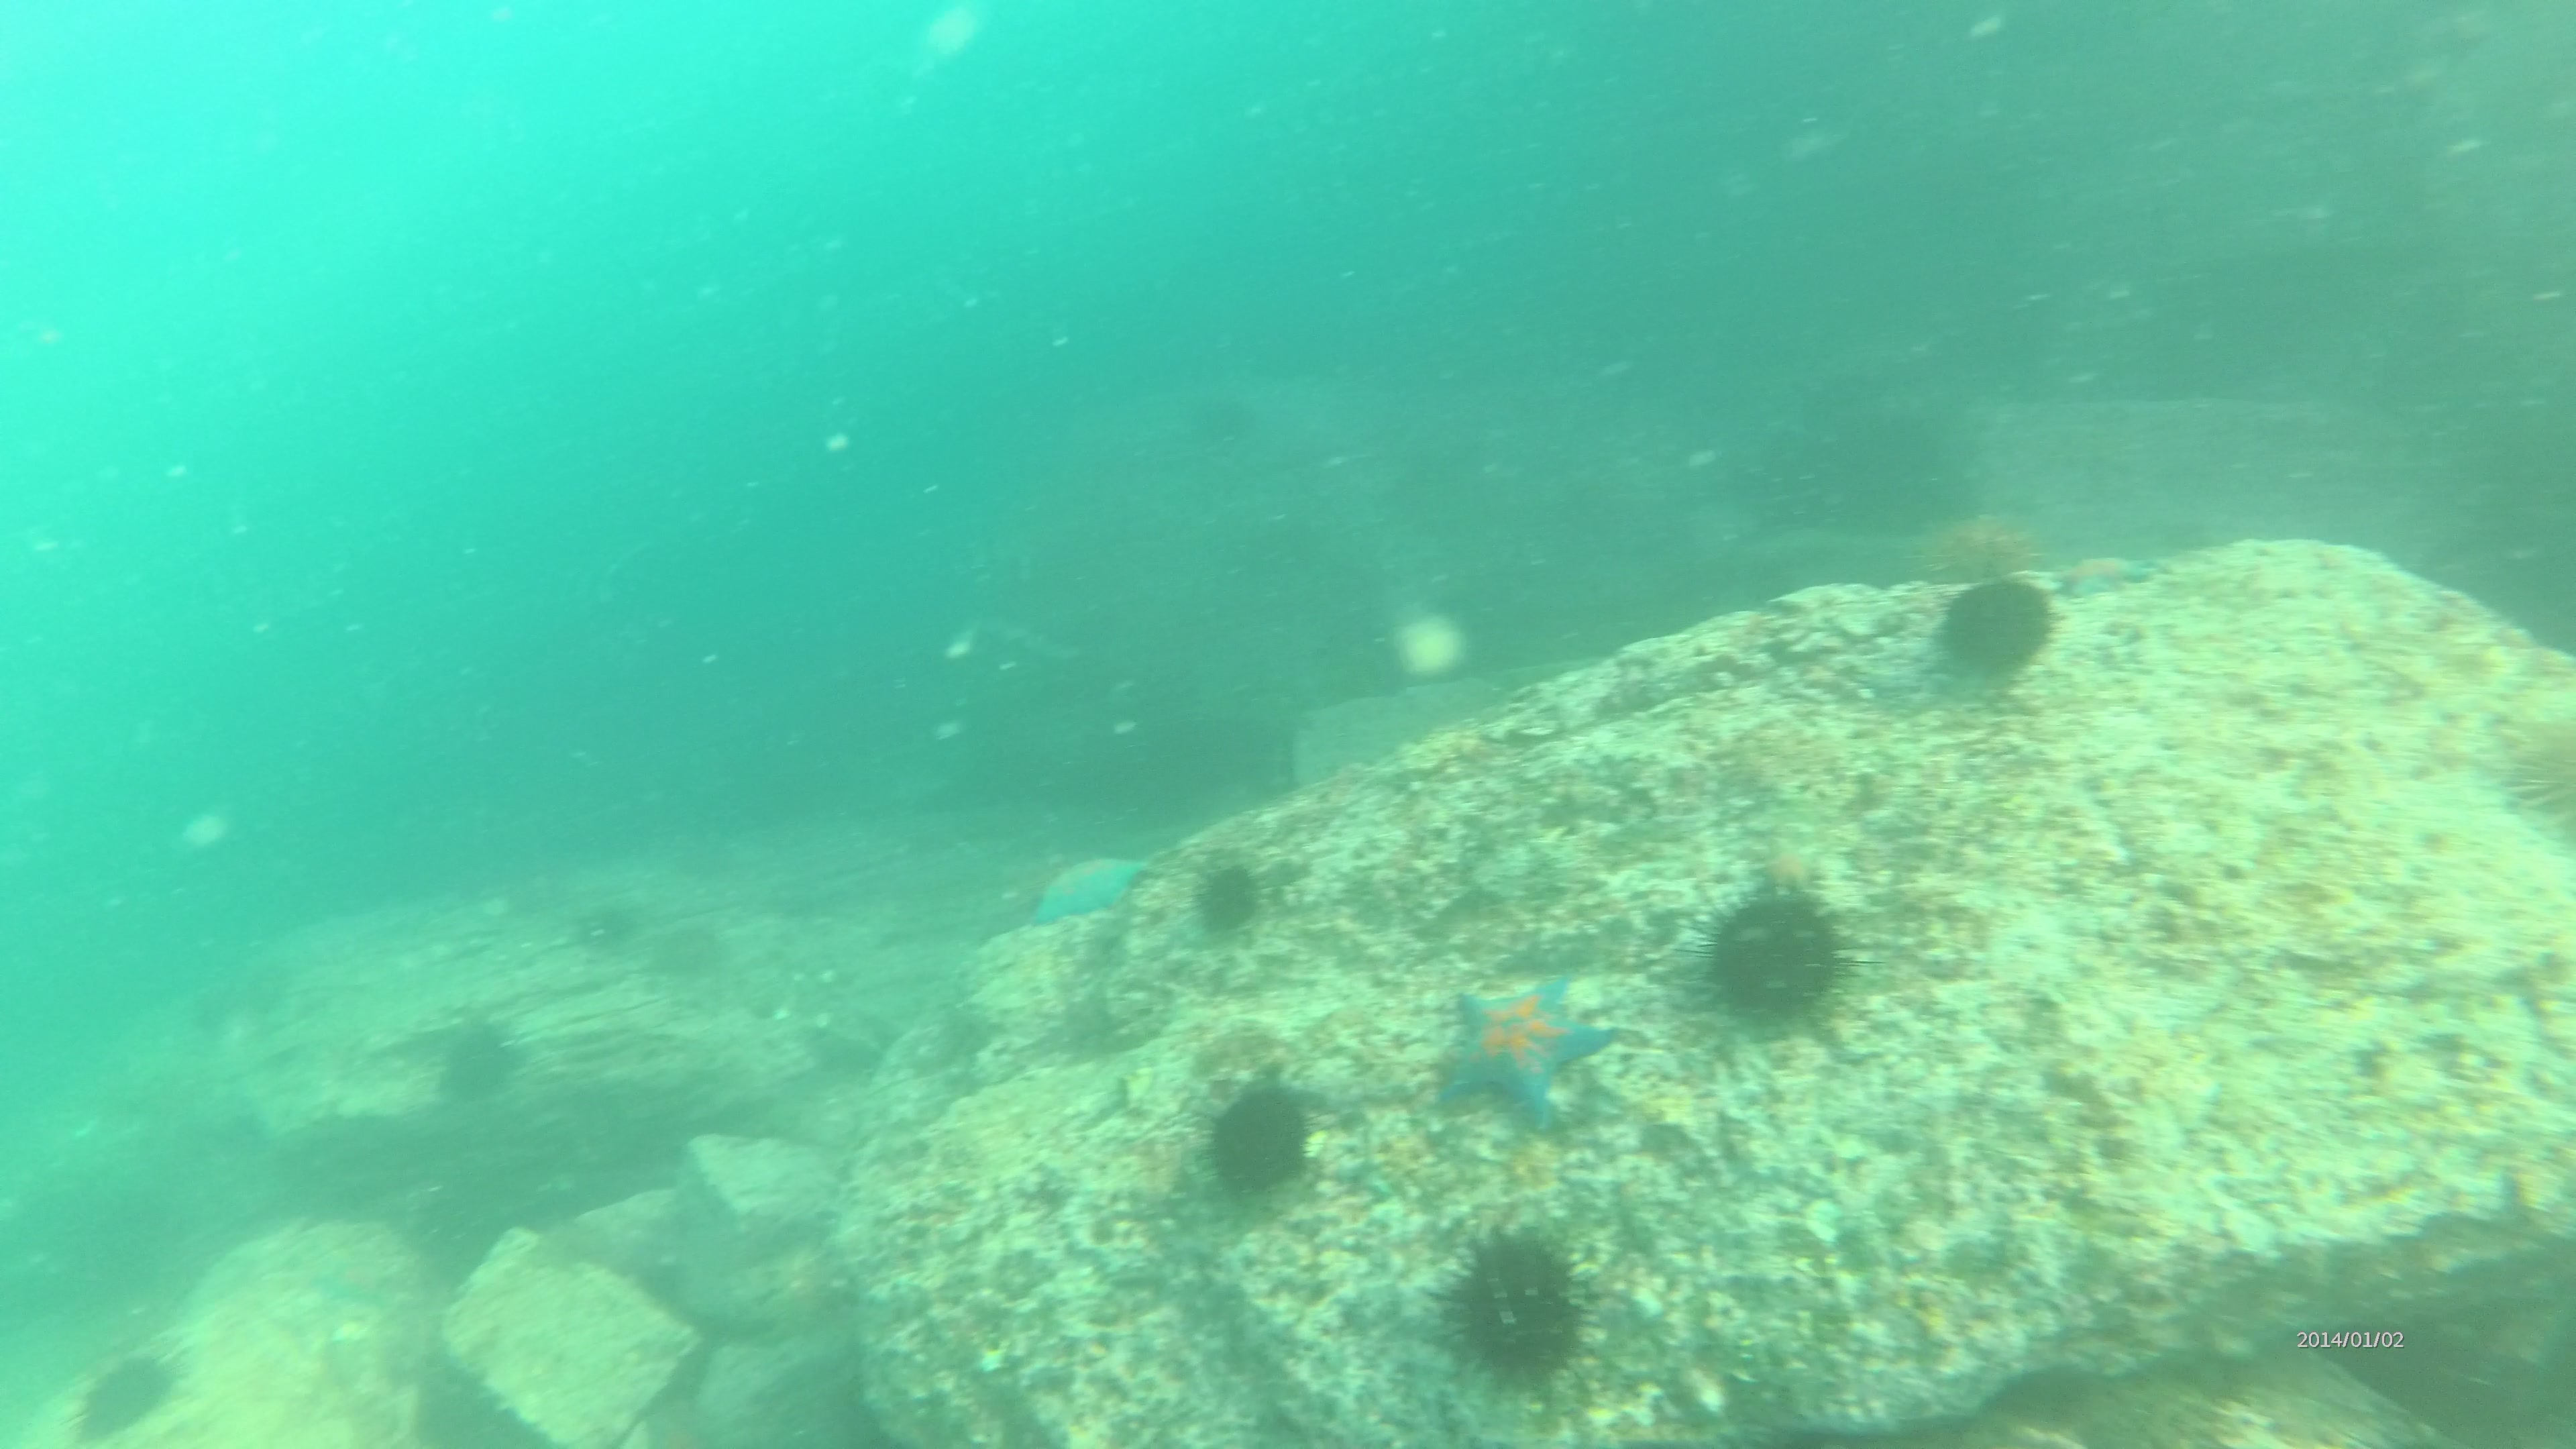echinus: (1438, 1231, 1594, 1366), (1713, 883, 1847, 1014), (1939, 577, 2068, 676), (1198, 1093, 1311, 1203), (2507, 717, 2576, 839), (58, 1359, 177, 1430), (1175, 862, 1265, 939), (426, 1024, 510, 1104)
starfish: (1426, 982, 1615, 1123), (1024, 846, 1141, 929)
